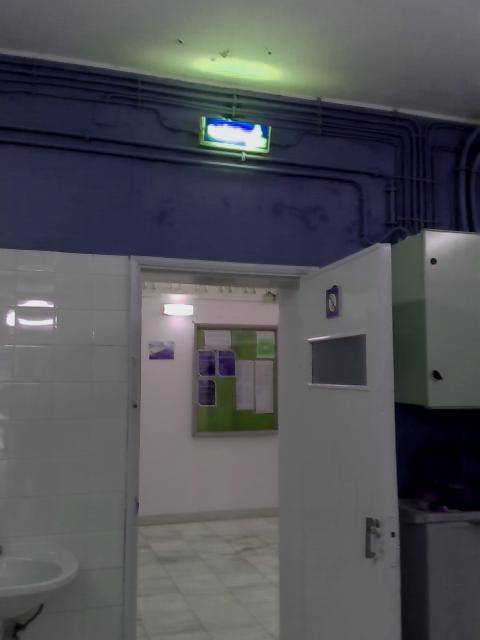open_door: (123, 251, 322, 638)
